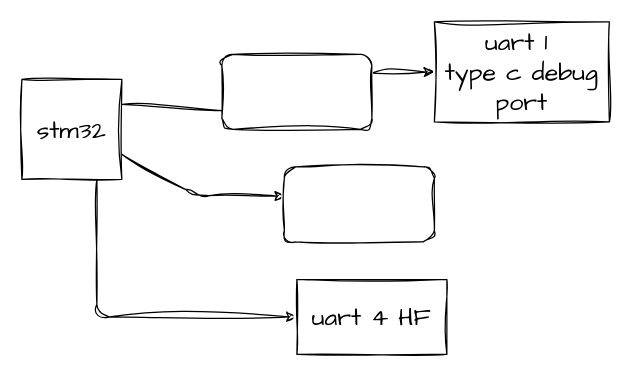
Some shapes in this 631 by 376 pixel diagram are drawn without their labels. Here are the shapes that lost their labels. From the top down, the box of each, then its label:
(221, 53, 372, 129): ch340
(283, 166, 434, 242): uart 5 cdu
